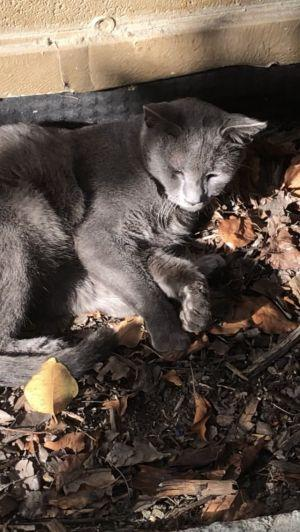rblue: (132, 82, 270, 224)
